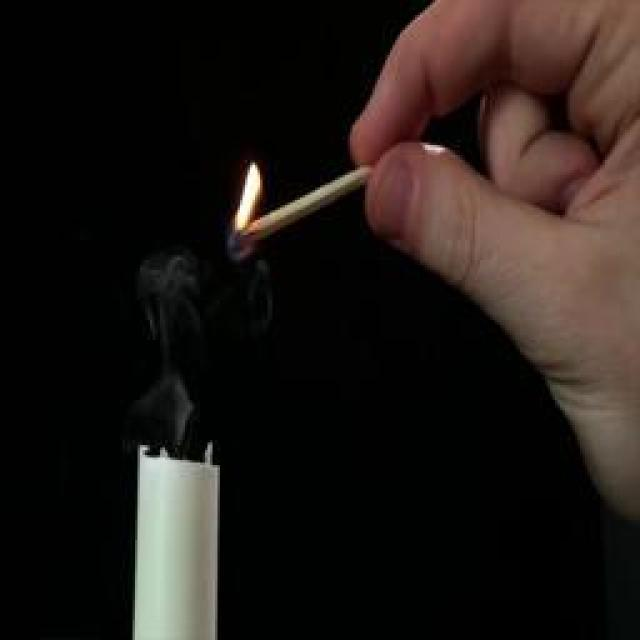Fire: (232, 161, 262, 231)
